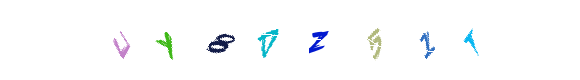1: (301, 0, 381, 80)
5: (290, 0, 370, 80)
8: (193, 0, 273, 80)
D: (250, 0, 330, 80)
T: (331, 0, 411, 80)
U: (127, 0, 207, 80)
Y: (180, 0, 260, 80)
Z: (277, 0, 357, 80)
